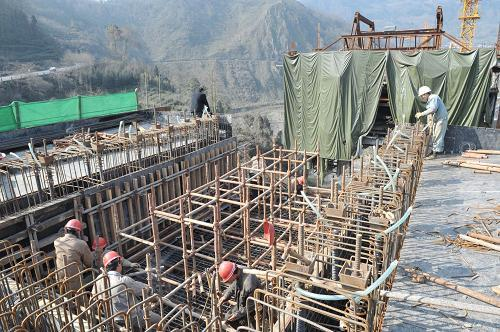helmet: (219, 261, 237, 282), (105, 251, 122, 268), (65, 219, 85, 232), (94, 237, 111, 251), (420, 86, 434, 98), (297, 175, 306, 185)
